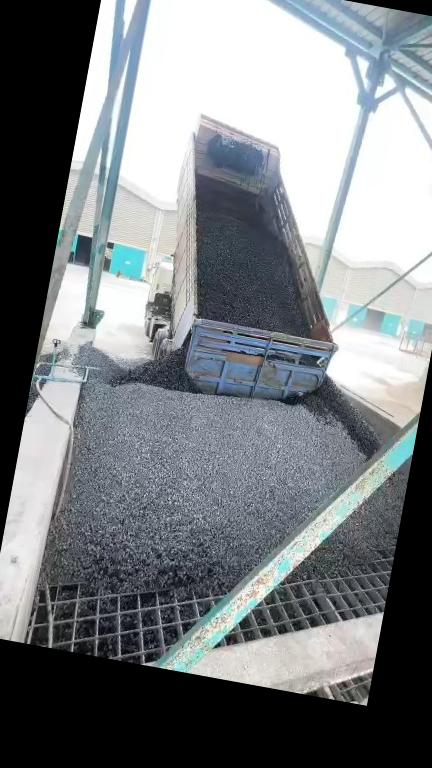gravel: (42, 332, 384, 596), (199, 217, 309, 338), (300, 477, 405, 581)
sand: (357, 374, 425, 427)
